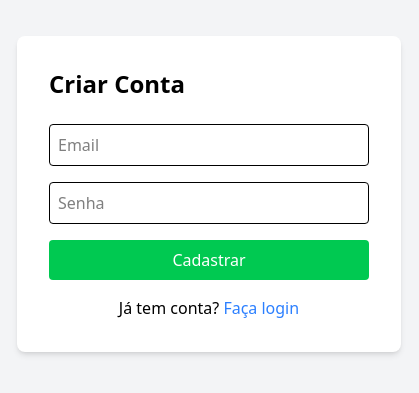
Test: Register Component › submissão do formulário › deve mostrar mensagem de erro em caso de falha no registro
Step 1. Type "existing@example.com" into the field with placeholder "Email" → {"x": 209, "y": 145}, box x1=49 y1=124 x2=369 y2=166
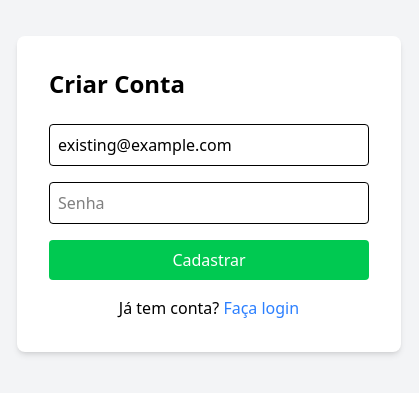
Step 2. Type "password123" into the password field with placeholder "Senha" → {"x": 209, "y": 203}, box x1=49 y1=182 x2=369 y2=224
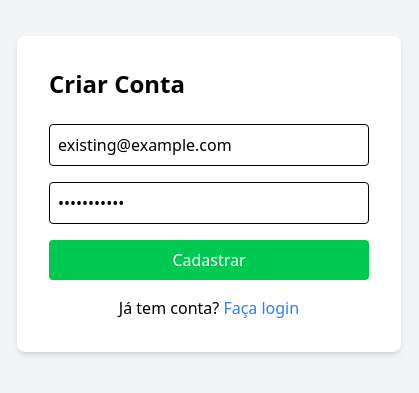
Step 3. Click the button "Cadastrar" → {"x": 209, "y": 260}, box x1=49 y1=240 x2=369 y2=280
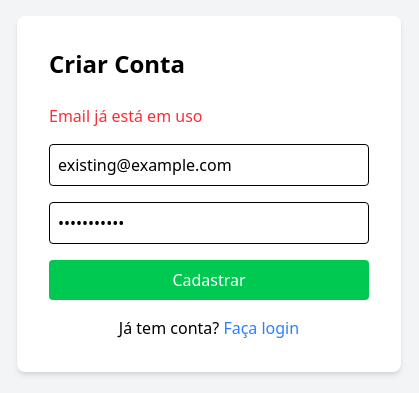
Now the text "Email já está em uso" is shown, box x1=49 y1=105 x2=202 y2=127
